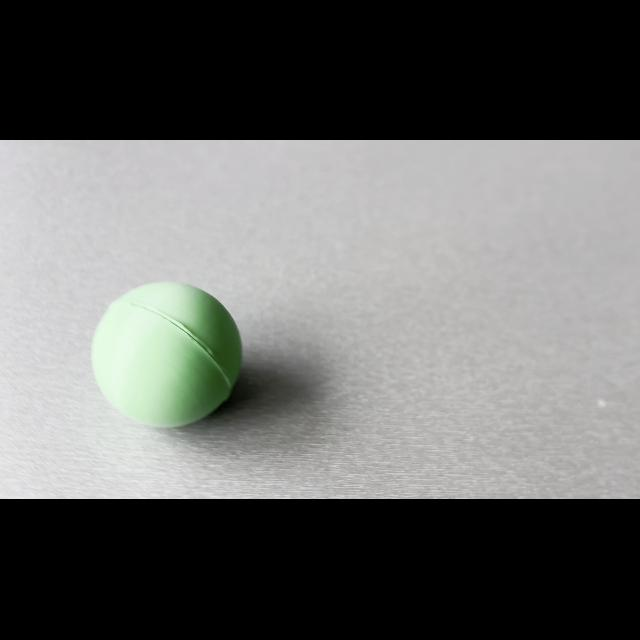objects: (85, 272, 248, 428)
